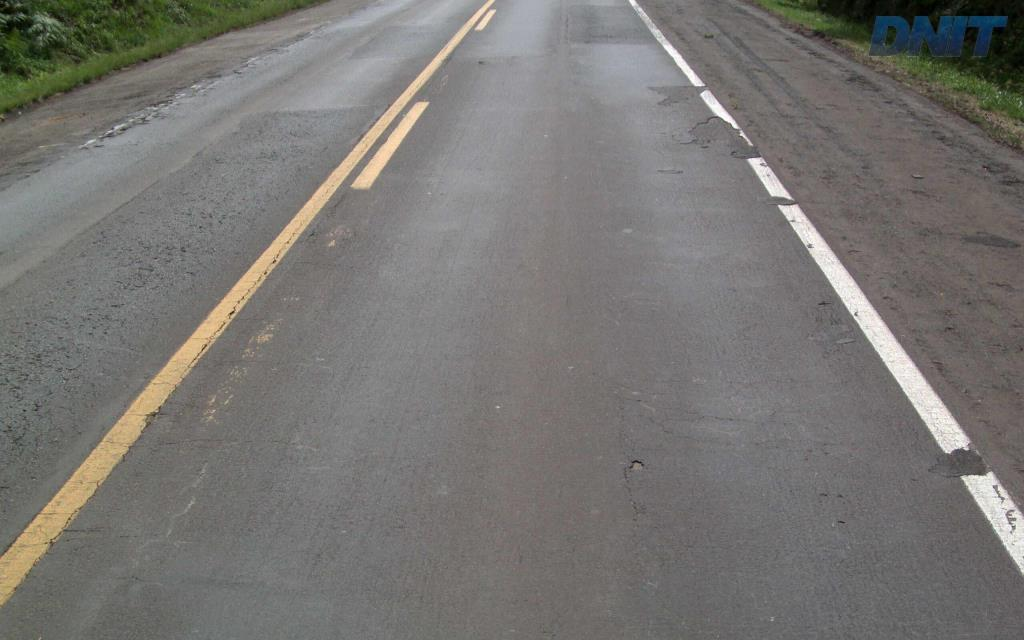pothole: (671, 105, 747, 162), (643, 79, 702, 113), (625, 453, 650, 476)
